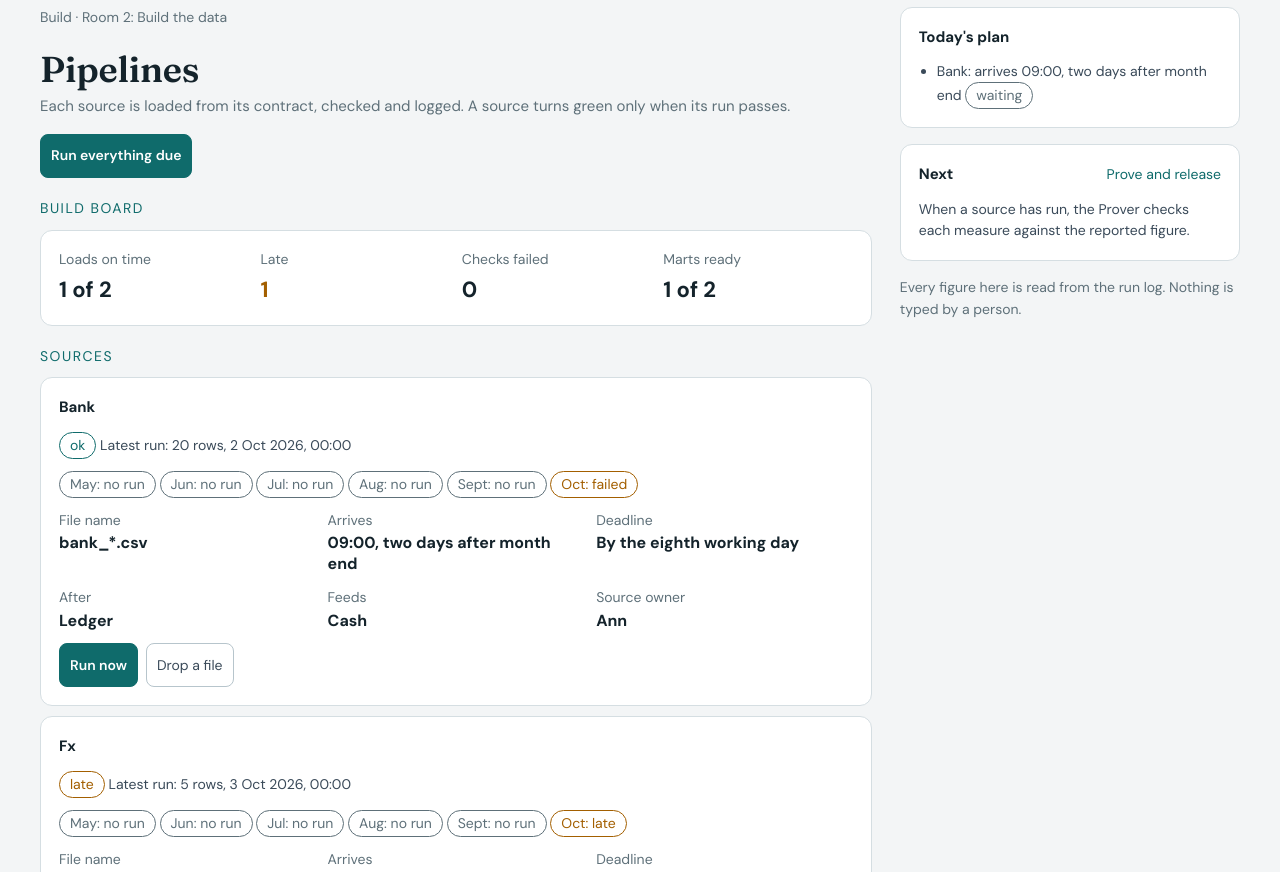
Test: Pipelines page › after a confirmed Run now the log fills with the new run
Click the button "Run now". click: [98, 665]
box: [59,643,138,687]
(page scrolled)
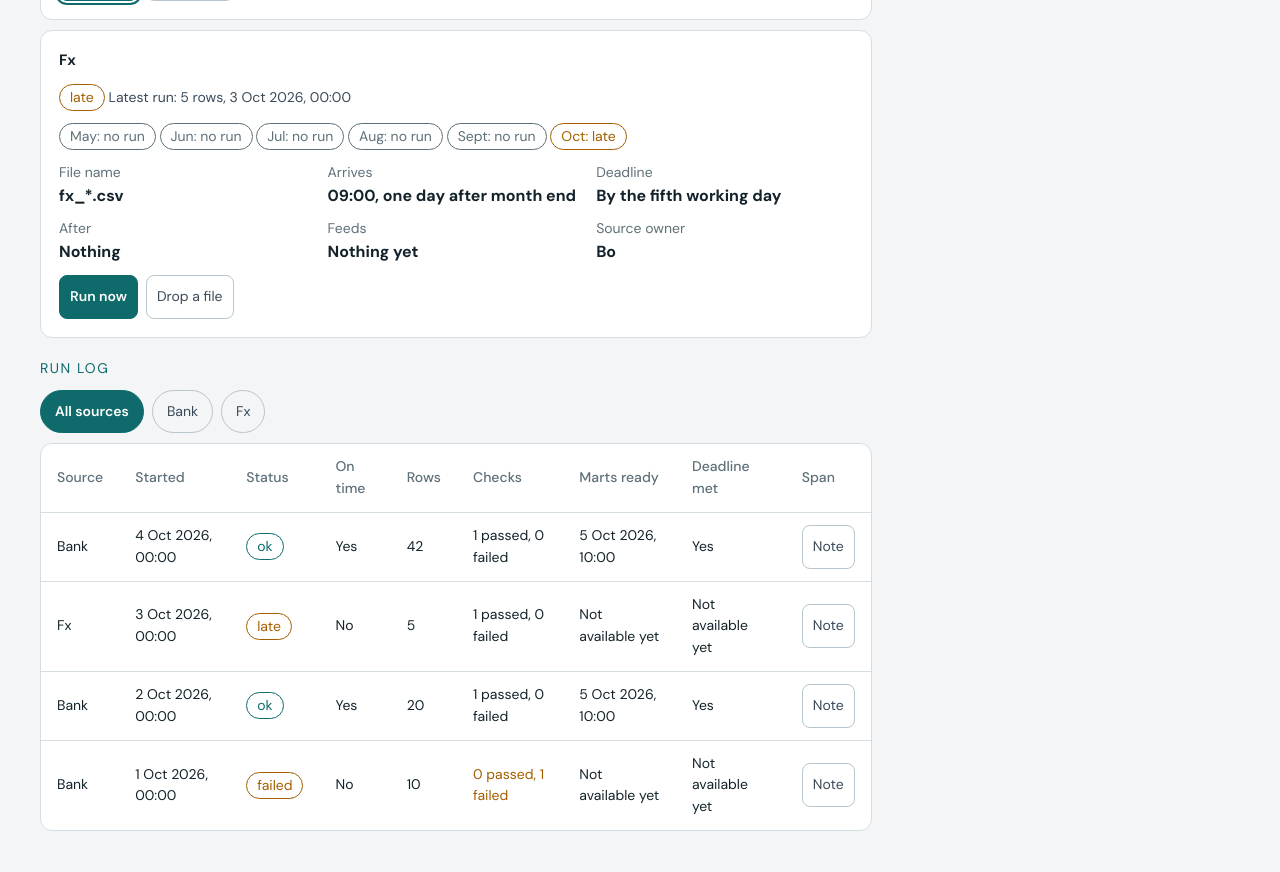
Now the 2nd row shows "Bank", box [57,537,88,555]
Now the 2nd row shows "42", box [407,537,423,555]
